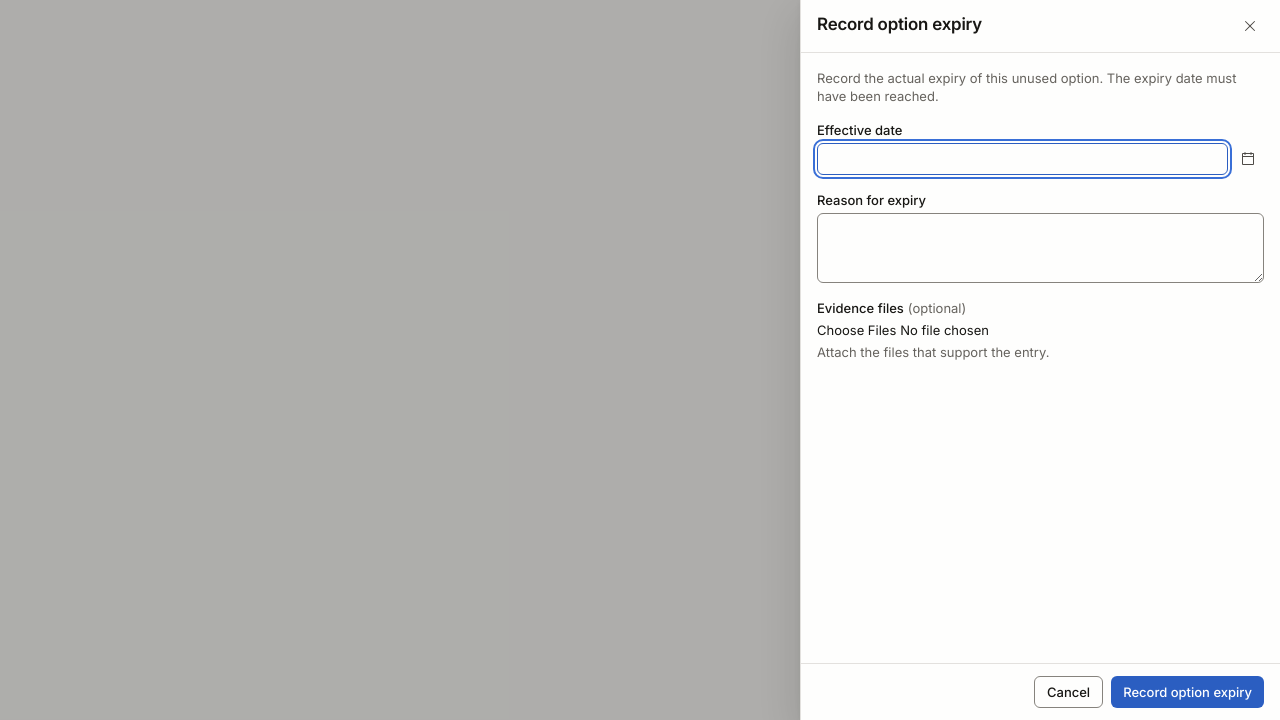
Test: keeps queued expiry visible through FAILED without offering a duplicate
Type "2026-09-12" into the field labelled "Effective date" at (1022, 159), box 817,143 -> 1228,175
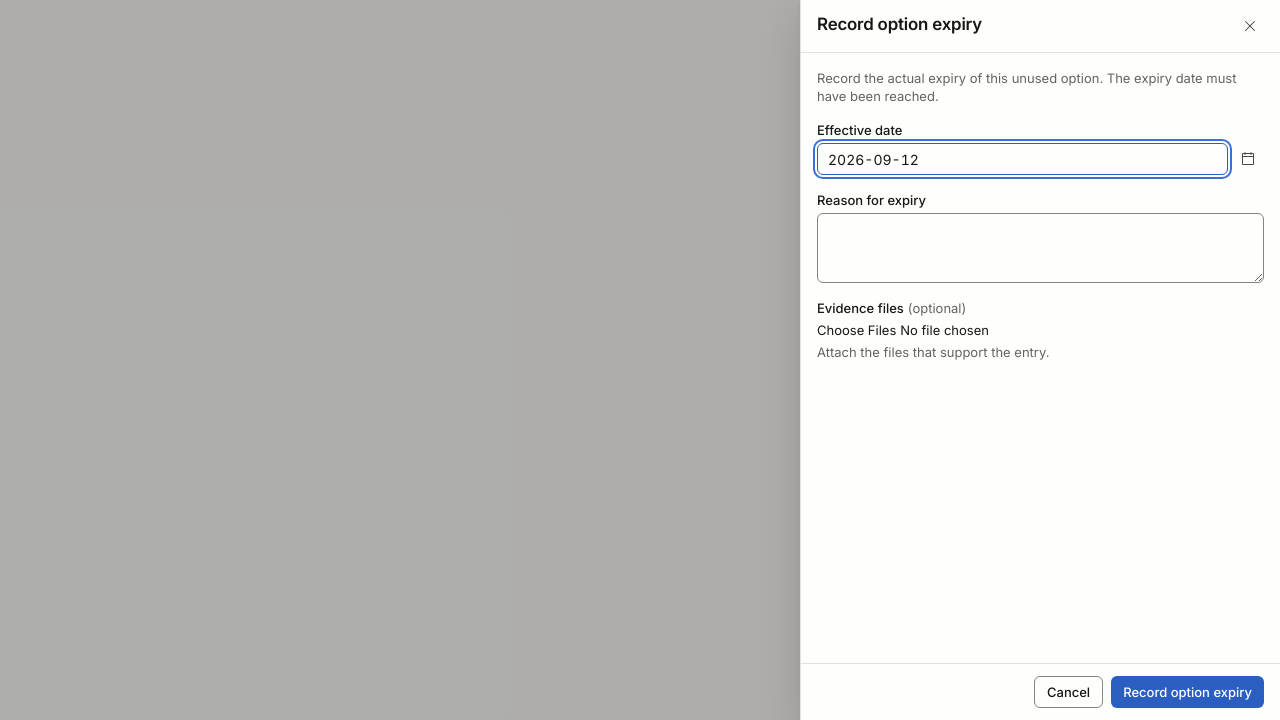
Type "Unused option expired." into the text box labelled "Reason for expiry" at (1040, 248), box 817,213 -> 1264,283
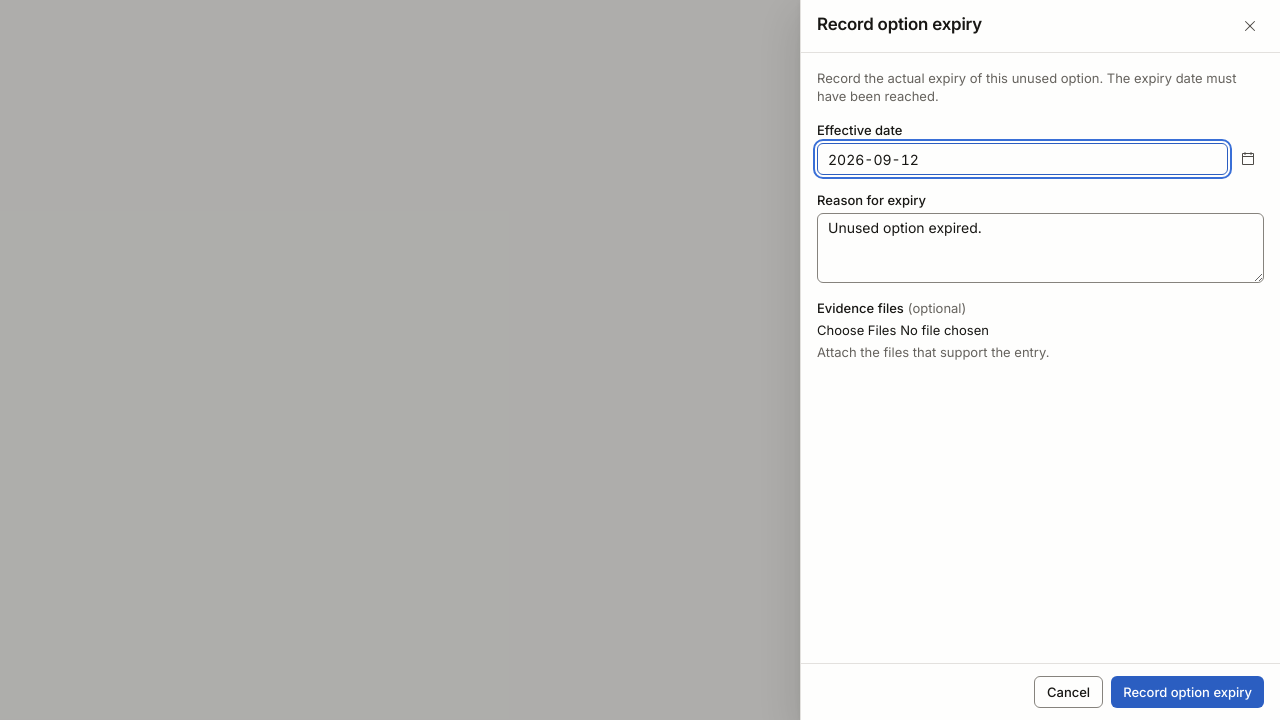
Click the button "Record option expiry" at (1188, 692), box 1111,676 -> 1264,708
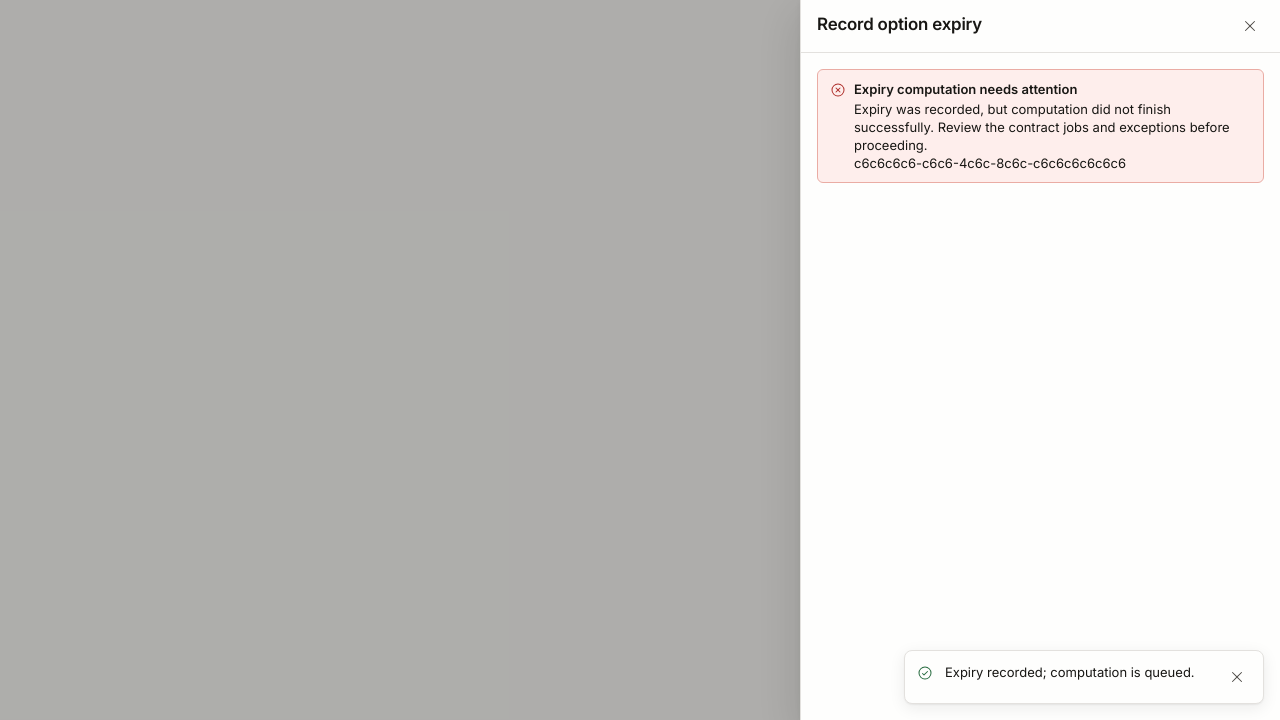
Check: the heading "Expiry computation needs attention" is shown, box 854,81 -> 1077,97
